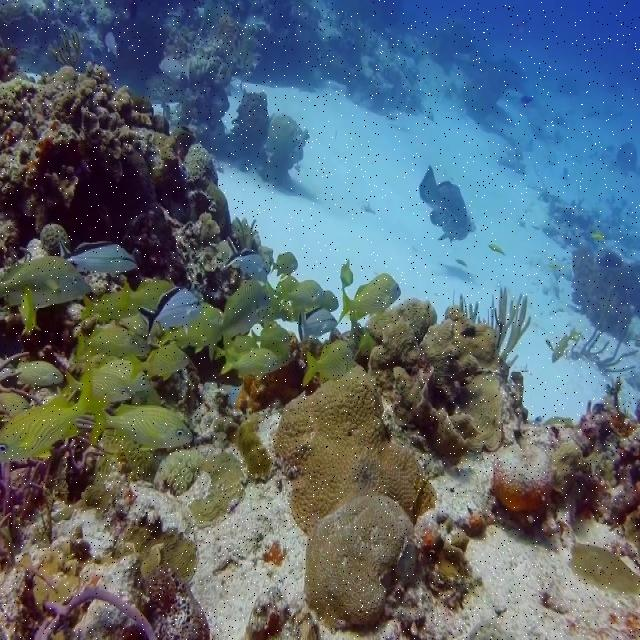fish: (0, 358, 109, 463), (78, 279, 174, 359), (200, 280, 274, 362), (91, 404, 193, 451), (0, 256, 91, 306), (419, 164, 476, 243), (258, 276, 339, 328), (136, 286, 201, 341), (52, 237, 139, 278), (338, 273, 401, 323), (71, 325, 141, 361), (128, 344, 189, 383), (148, 314, 209, 352), (92, 356, 152, 394), (303, 340, 352, 386), (225, 235, 271, 281), (220, 348, 280, 381), (299, 305, 338, 341), (92, 372, 132, 403), (17, 361, 64, 386), (216, 334, 258, 360), (18, 288, 40, 336), (552, 325, 577, 362), (159, 53, 190, 82), (251, 326, 288, 348), (270, 252, 299, 279), (63, 370, 81, 395), (340, 258, 353, 286), (105, 33, 117, 60), (488, 244, 505, 255), (455, 259, 468, 267)
reefs: (273, 361, 436, 535), (364, 297, 511, 457), (81, 429, 250, 523), (303, 493, 416, 629), (122, 513, 199, 582), (568, 542, 639, 595), (229, 414, 273, 483)
